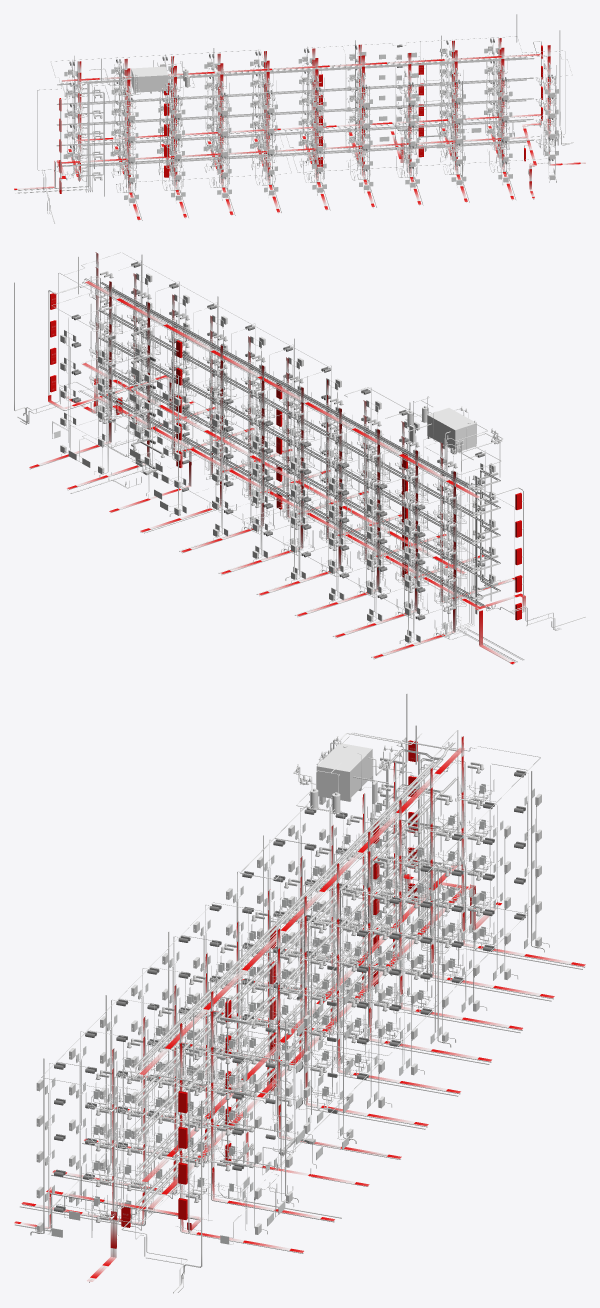
Rendered from jd1xsss.gltf.
3 renders of one model, top to bottom at view 1: azimuth 30°, elevation 25°; view 2: azimuth 150°, elevation 25°; view 3: azimuth 270°, elevation 25°, orthographic. The views are drawn at different scales.
Parts seen in each view (by area): view 1: 1xyss1cjdsg, 1xyss5cjdsg, 1xyss2cjdsg, 1xyss4cjdsg, 1xyss3cjdsg, 1xyss1cjdsglx, 1xyssdcjddw, 1xyss5cjdxhs, 1xyss1cjdxhs, 1xyss2cjdxhs, 1xyss3cjdxhs, 1xyss4cjdxhs (+15 smaller); view 2: 1xyss1cjdsg, 1xyss5cjdsg, 1xyss4cjdsg, 1xyss2cjdsg, 1xyss3cjdsg, 1xyss1cjdsglx, 1xyssdcjddw, 1xyss5cjdxhs, 1xyss4cjdxhs, 1xyss3cjdxhs, 1xyss2cjdxhs, 1xyss1cjdxhs (+15 smaller); view 3: 1xyss1cjdsg, 1xyss4cjdsg, 1xyss5cjdsg, 1xyss3cjdsg, 1xyss2cjdsg, 1xyss1cjdsglx, 1xyss5cjdxhs, 1xyss4cjdxhs, 1xyssdcjddw, 1xyss3cjdxhs, 1xyss2cjdxhs, 1xyss1cjdxhs (+15 smaller).
Part boxes in pixels (x1=…): 1xyss1cjdsg: x1=14, y1=112, x2=585, y2=223; 1xyss5cjdsg: x1=37, y1=30, x2=572, y2=116; 1xyss2cjdsg: x1=37, y1=91, x2=565, y2=180; 1xyss4cjdsg: x1=37, y1=50, x2=565, y2=139; 1xyss3cjdsg: x1=37, y1=71, x2=565, y2=159; 1xyss1cjdsglx: x1=14, y1=120, x2=585, y2=219; 1xyssdcjddw: x1=56, y1=57, x2=534, y2=114; 1xyss5cjdxhs: x1=59, y1=38, x2=558, y2=120; 1xyss1cjdxhs: x1=59, y1=127, x2=555, y2=202; 1xyss2cjdxhs: x1=59, y1=101, x2=558, y2=182; 1xyss3cjdxhs: x1=59, y1=81, x2=558, y2=161; 1xyss4cjdxhs: x1=59, y1=61, x2=558, y2=141; 1xyss1cjdsg: x1=14, y1=363, x2=585, y2=664; 1xyss5cjdsg: x1=14, y1=252, x2=523, y2=529; 1xyss4cjdsg: x1=14, y1=280, x2=523, y2=559; 1xyss2cjdsg: x1=14, y1=336, x2=523, y2=614; 1xyss3cjdsg: x1=14, y1=308, x2=523, y2=587; 1xyss1cjdsglx: x1=29, y1=375, x2=525, y2=663; 1xyssdcjddw: x1=98, y1=282, x2=500, y2=526; 1xyss5cjdxhs: x1=50, y1=261, x2=521, y2=533; 1xyss4cjdxhs: x1=50, y1=289, x2=521, y2=560; 1xyss3cjdxhs: x1=50, y1=317, x2=521, y2=588; 1xyss2cjdxhs: x1=50, y1=347, x2=521, y2=615; 1xyss1cjdxhs: x1=54, y1=375, x2=521, y2=643; 1xyss1cjdsg: x1=14, y1=863, x2=585, y2=1293; 1xyss4cjdsg: x1=43, y1=756, x2=537, y2=1170; 1xyss5cjdsg: x1=41, y1=730, x2=540, y2=1134; 1xyss3cjdsg: x1=43, y1=792, x2=537, y2=1206; 1xyss2cjdsg: x1=43, y1=827, x2=537, y2=1242; 1xyss1cjdsglx: x1=14, y1=874, x2=585, y2=1281; 1xyss5cjdxhs: x1=36, y1=740, x2=541, y2=1113; 1xyss4cjdxhs: x1=36, y1=776, x2=541, y2=1148; 1xyssdcjddw: x1=133, y1=742, x2=457, y2=1104; 1xyss3cjdxhs: x1=36, y1=812, x2=541, y2=1184; 1xyss2cjdxhs: x1=36, y1=847, x2=541, y2=1219; 1xyss1cjdxhs: x1=36, y1=883, x2=541, y2=1244.
Size of the model in its own units: 79.18 by 22.36 by 47.91.
18 materials, 2 textured.
